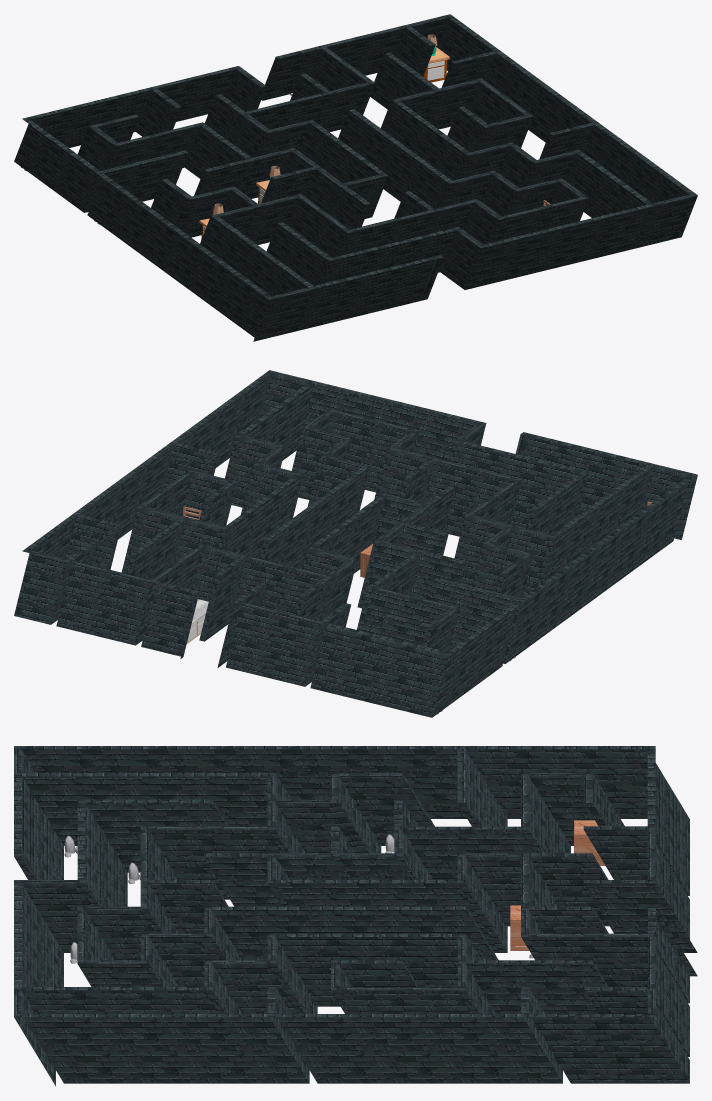
File: MazeLvl2.fbx
The picture shows the model from 3 angles, top to bottom: view 1: azimuth 30°, elevation 25°; view 2: azimuth 150°, elevation 25°; view 3: azimuth 270°, elevation 25°; orthographic projection. The views are drawn at different scales.
Visible parts, largest first — view 1: polySurface18, pasted__polySurface48; view 2: polySurface18; view 3: polySurface18, pasted__polySurface43, pasted__polySurface42.
Part boxes in pixels (x1,y1,x2,y2): polySurface18: [14, 14, 697, 341]; pasted__polySurface48: [423, 34, 449, 82]; polySurface18: [14, 370, 697, 717]; polySurface18: [14, 746, 697, 1086]; pasted__polySurface43: [574, 820, 605, 865]; pasted__polySurface42: [510, 905, 529, 950].
Bounding box in the file's own units: 30.43 × 3.87 × 32.45.
Materials: 2 (2 with a texture image).
